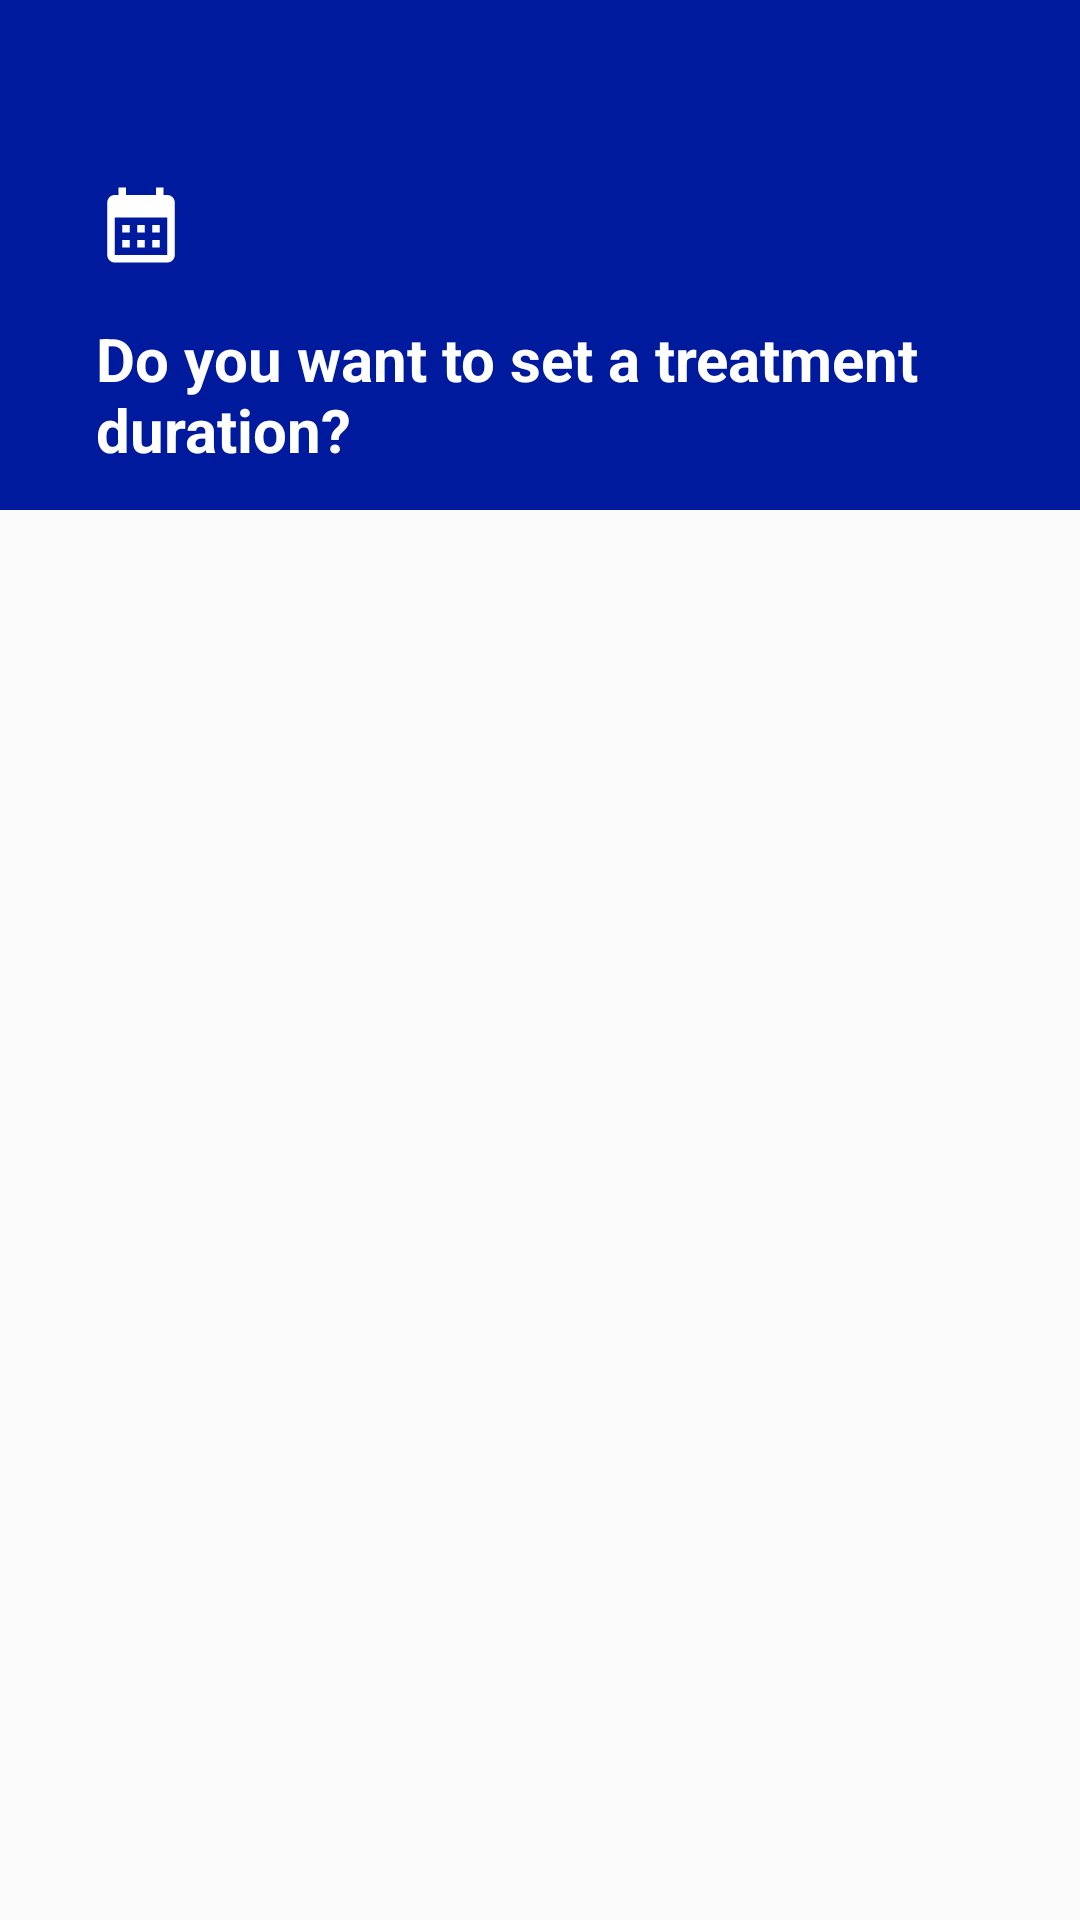

Screen size 1080w x 1920h. Icon name, then its center in pixels as (x=x, y=y):
calendar month: (x=141, y=225)
